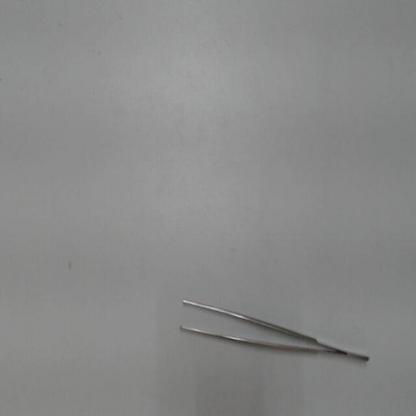Gillies Toothed Dissector: (170, 291, 374, 373)
